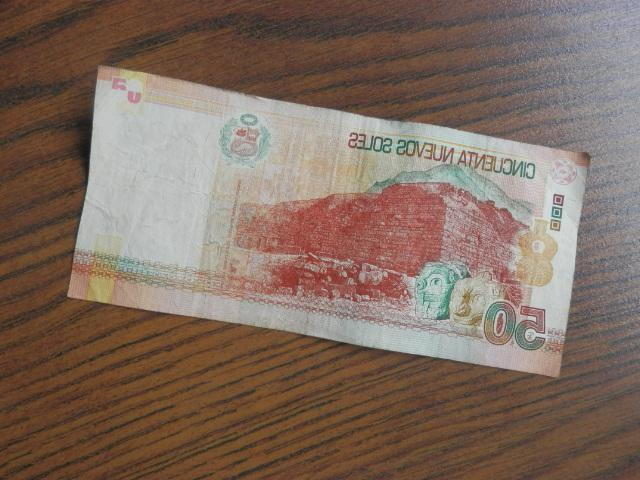B50: (68, 68, 590, 380)
